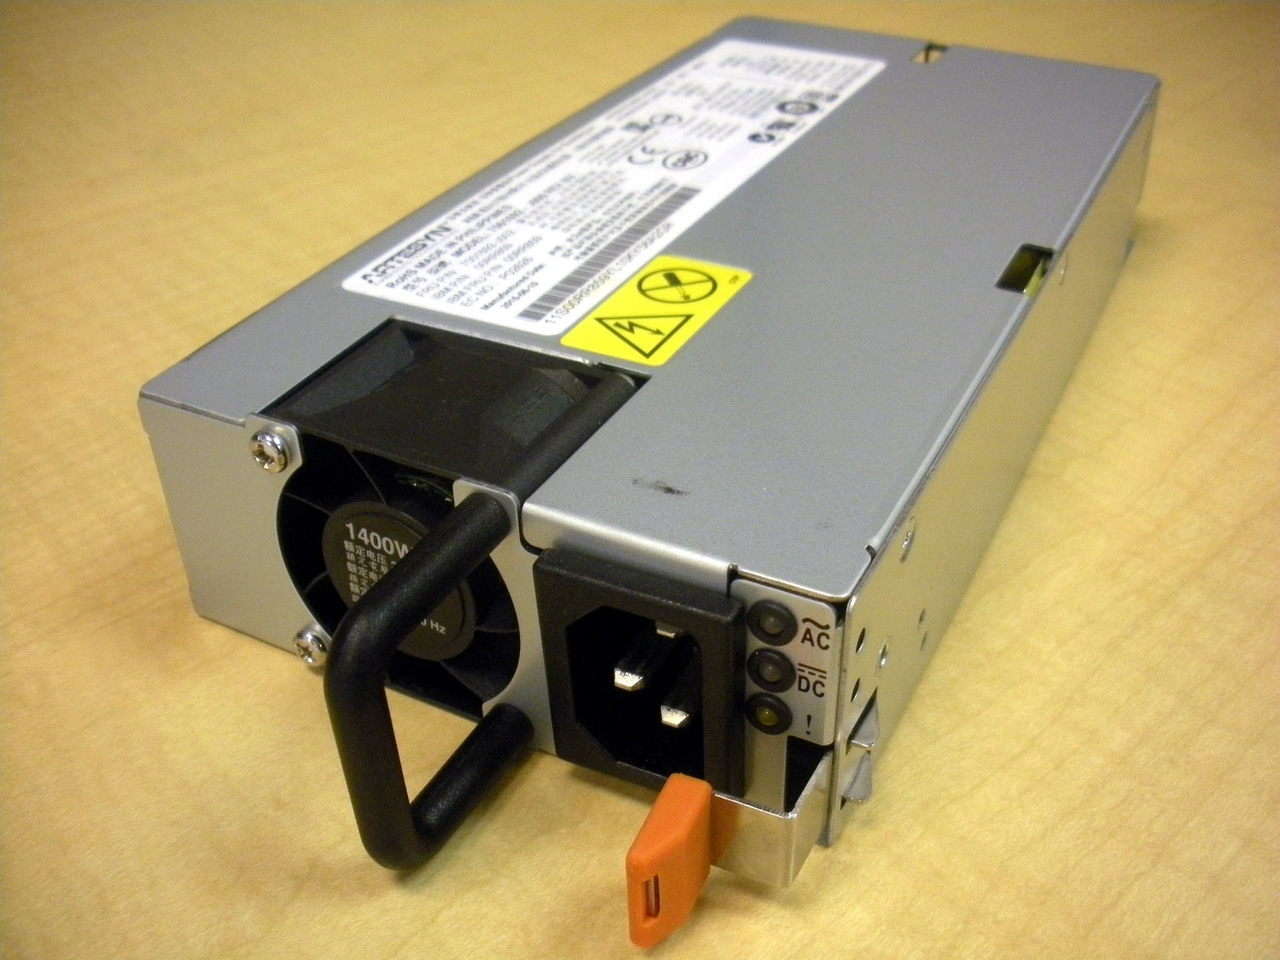Power Supply: (103, 8, 1203, 959)
